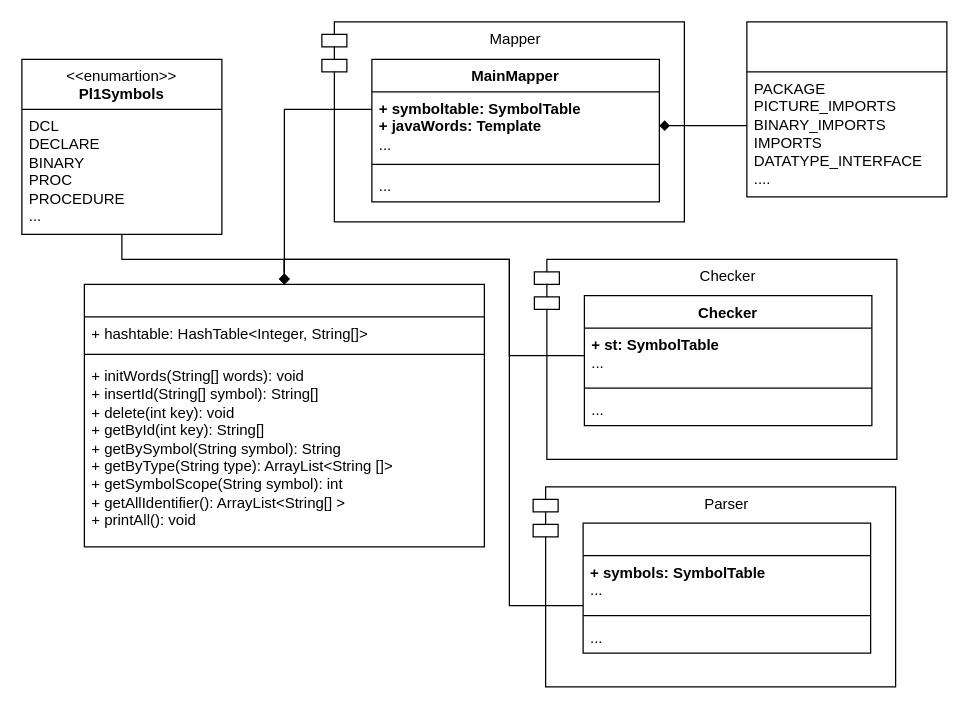
This 969x709 diagram has some shape labels left out. The shapes that lost their labels are listed below. From the top down, each one's box as (x1, y1, x2, y2) in pixels, then its label:
(746, 21, 947, 197): <<enumartion>> Template
(83, 283, 484, 547): SymbolTable
(582, 522, 871, 653): Pl1Parser
